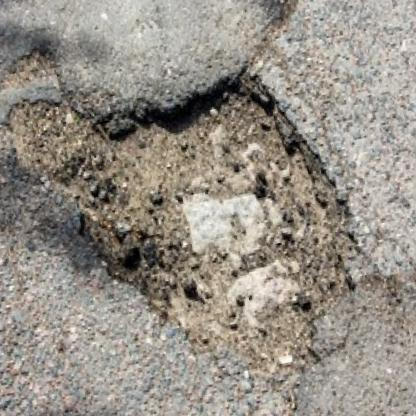pothole: (4, 45, 379, 416)
